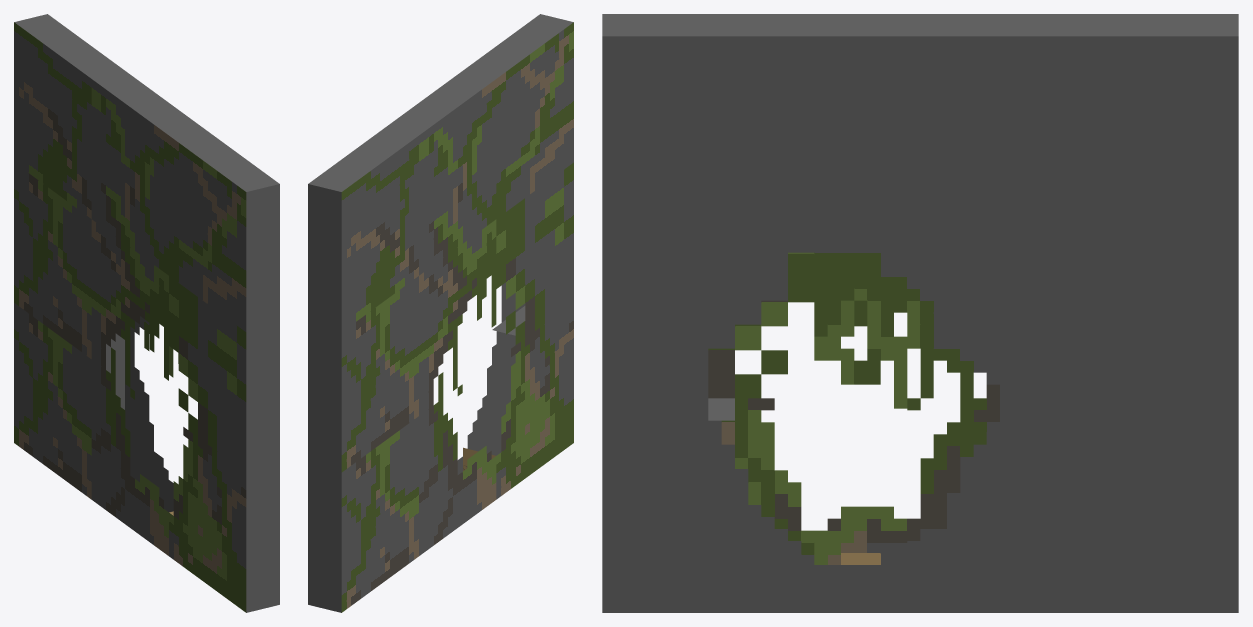
The model's file is Bookstore_wall_1.gltf.
3 views of the same model, side by side, from view 1: azimuth 30°, elevation 25°; view 2: azimuth 150°, elevation 25°; view 3: azimuth 270°, elevation 25° (orthographic). The views are drawn at different scales.
Visible parts, largest first — view 1: cube (×7), Hole down, Hole up; view 2: cube (×7), Hole up, Hole down; view 3: cube (×7), Hole up, Hole down.
Part boxes in pixels (box(x1,y1,x2,y2)): cube (×7): box(14, 14, 279, 612); Hole down: box(91, 351, 173, 555); Hole up: box(91, 219, 178, 387); cube (×7): box(308, 14, 573, 612); Hole up: box(419, 219, 496, 415); Hole down: box(419, 384, 496, 555); cube (×7): box(602, 14, 1238, 612); Hole up: box(814, 228, 1026, 420); Hole down: box(814, 398, 1026, 612).
Size of the model in its own units: 0.0312 by 0.375 by 0.375.
8 materials, 8 textured.
